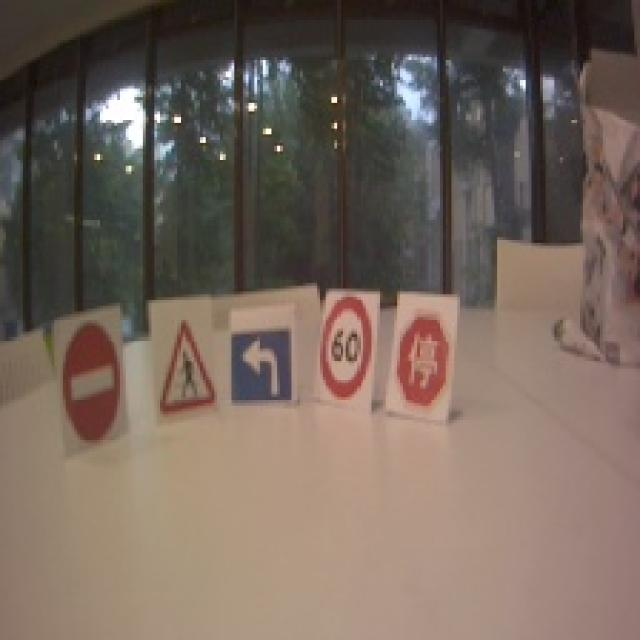DoNotEnterSign: (62, 321, 125, 444)
